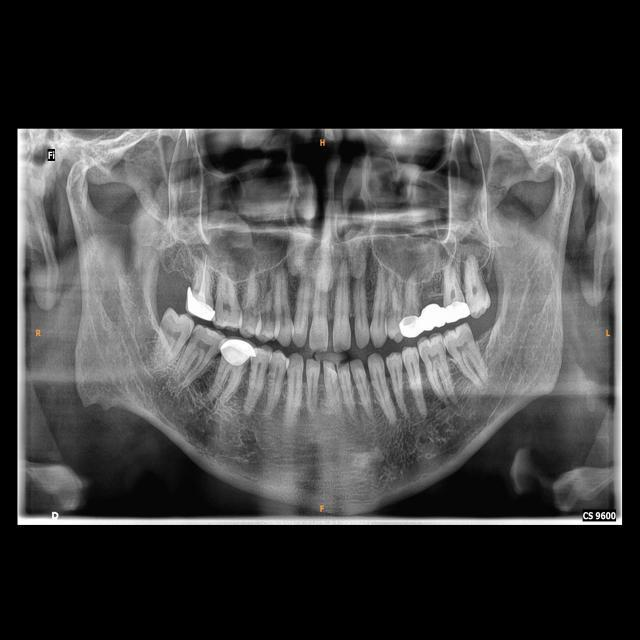kanal-tedavisi: (193, 254, 213, 296)
kaplama: (183, 287, 217, 321), (220, 336, 258, 364), (444, 298, 472, 322), (400, 310, 423, 337)
kopru: (417, 298, 452, 332)
